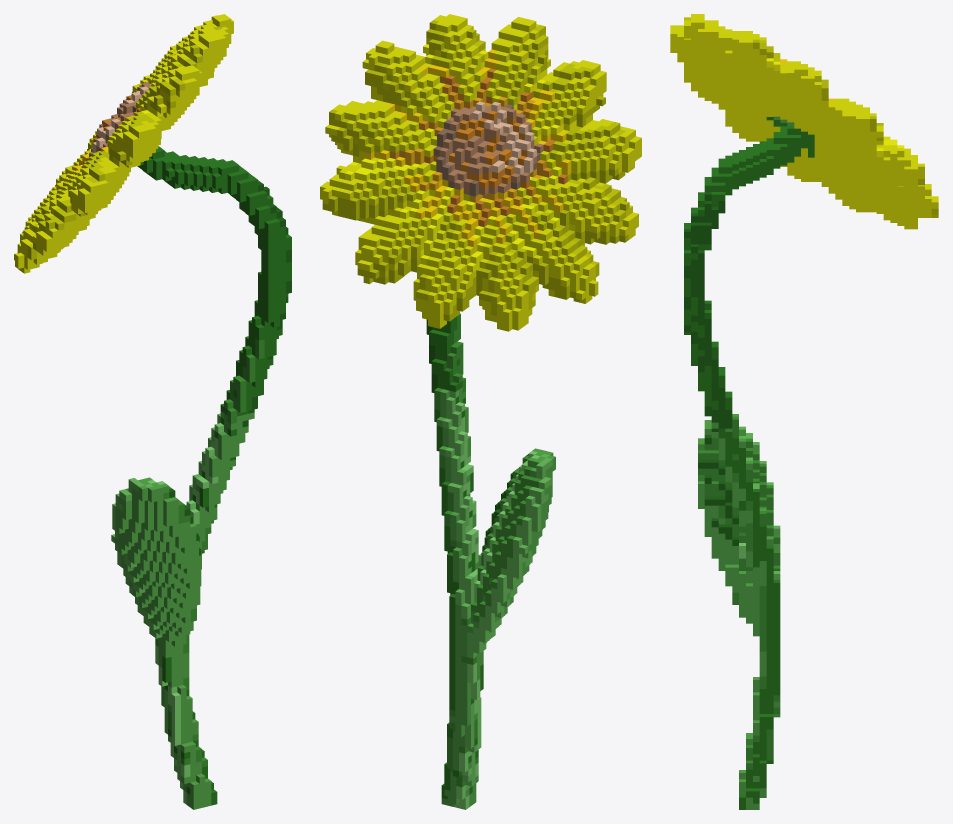
The model's file is plag.FBX.
3 renders of one model, left to right at view 1: azimuth 30°, elevation 25°; view 2: azimuth 150°, elevation 25°; view 3: azimuth 270°, elevation 25°, orthographic.
Visible parts, largest first — view 1: default039; view 2: default039; view 3: default039.
Part boxes in pixels (x1,y1,x2,y2): default039: (14,14,291,809); default039: (320,14,641,809); default039: (670,14,938,809).
Bounding box in the file's own units: 674 × 2143 × 674.
